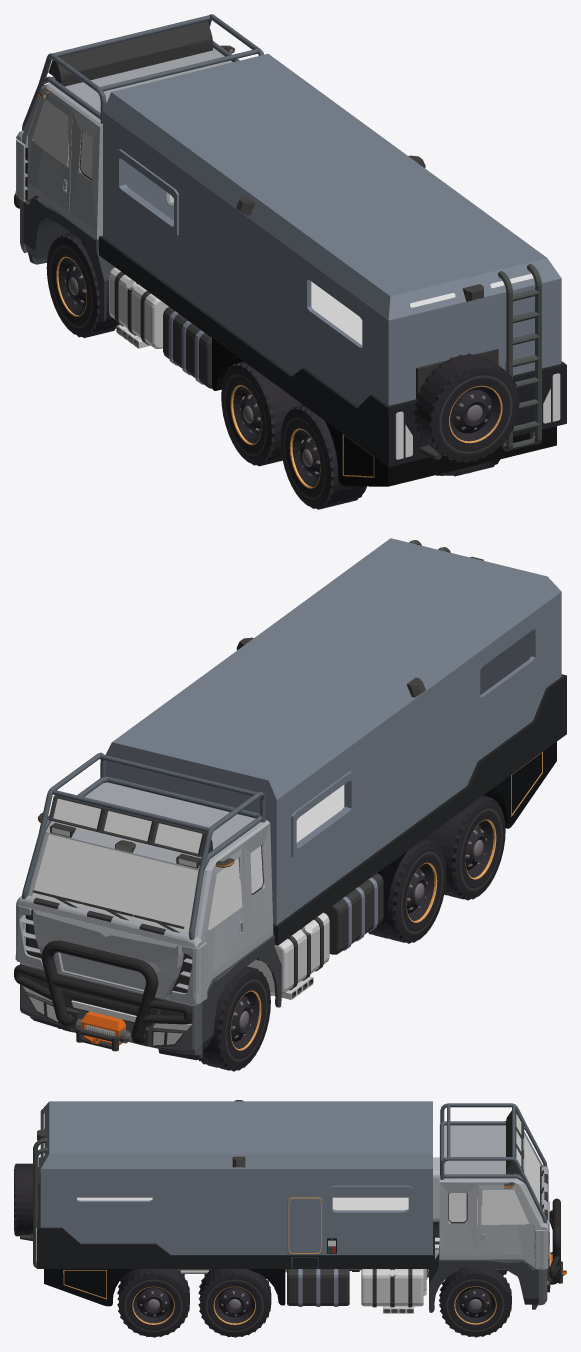
The model's file is Main_UnityVersion.fbx.
The picture shows the model from 3 angles, top to bottom: view 1: azimuth 30°, elevation 25°; view 2: azimuth 150°, elevation 25°; view 3: azimuth 270°, elevation 25°; orthographic projection. The views are drawn at different scales.
Parts seen in each view (by area): view 1: LivingCabin, Base, Wheel1Alt, OutFrame, WheelL2, WheelL3, HeadLightT, WheelL1, Cylinder.069, RearBumper, FuelTankL, CleanWaterTank (+10 smaller); view 2: LivingCabin, OutFrame, G0, Base, CoverM, Cylinder.069, WheelL3, WheelL1, WheelL2, HeadLightT, Cylinder, FuelTankL (+15 smaller); view 3: LivingCabin, Base, OutFrame, WheelR3, WheelR2, WheelR1, Cylinder.069, FuelTankR, DoorR, SewageTank, Door, BaseFrame (+16 smaller).
Boxes of the visible parts, bbox=[...] form: LivingCabin: bbox=[103, 54, 561, 406]; Base: bbox=[99, 235, 566, 467]; Wheel1Alt: bbox=[413, 353, 520, 462]; OutFrame: bbox=[21, 48, 232, 239]; WheelL2: bbox=[221, 361, 302, 466]; WheelL3: bbox=[280, 404, 366, 509]; HeadLightT: bbox=[48, 20, 212, 86]; WheelL1: bbox=[46, 232, 119, 337]; Cylinder.069: bbox=[22, 14, 264, 130]; RearBumper: bbox=[325, 421, 556, 486]; FuelTankL: bbox=[109, 267, 168, 348]; CleanWaterTank: bbox=[163, 307, 212, 388]; LivingCabin: bbox=[105, 538, 561, 924]; OutFrame: bbox=[27, 782, 273, 989]; G0: bbox=[32, 834, 198, 933]; Base: bbox=[273, 674, 566, 945]; CoverM: bbox=[16, 895, 201, 998]; Cylinder.069: bbox=[22, 752, 265, 939]; WheelL3: bbox=[424, 795, 505, 900]; WheelL1: bbox=[199, 966, 270, 1071]; WheelL2: bbox=[368, 839, 446, 943]; HeadLightT: bbox=[48, 795, 212, 856]; Cylinder: bbox=[41, 940, 158, 1043]; FuelTankL: bbox=[247, 912, 329, 993]; LivingCabin: bbox=[40, 1101, 432, 1254]; Base: bbox=[37, 1195, 434, 1268]; OutFrame: bbox=[439, 1125, 543, 1267]; WheelR3: bbox=[117, 1269, 189, 1337]; WheelR2: bbox=[198, 1269, 271, 1337]; WheelR1: bbox=[439, 1267, 511, 1337]; Cylinder.069: bbox=[440, 1103, 547, 1223]; FuelTankR: bbox=[361, 1269, 423, 1307]; DoorR: bbox=[477, 1185, 534, 1254]; SewageTank: bbox=[287, 1269, 349, 1306]; Door: bbox=[288, 1197, 321, 1253]; BaseFrame: bbox=[439, 1222, 538, 1309].
Size of what is drawn, in the model's own units: 461 by 601 by 1662.
